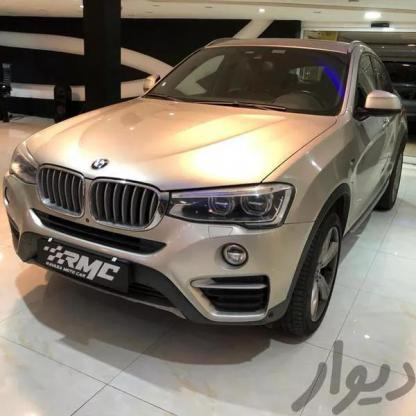Car: (0, 17, 386, 344)
